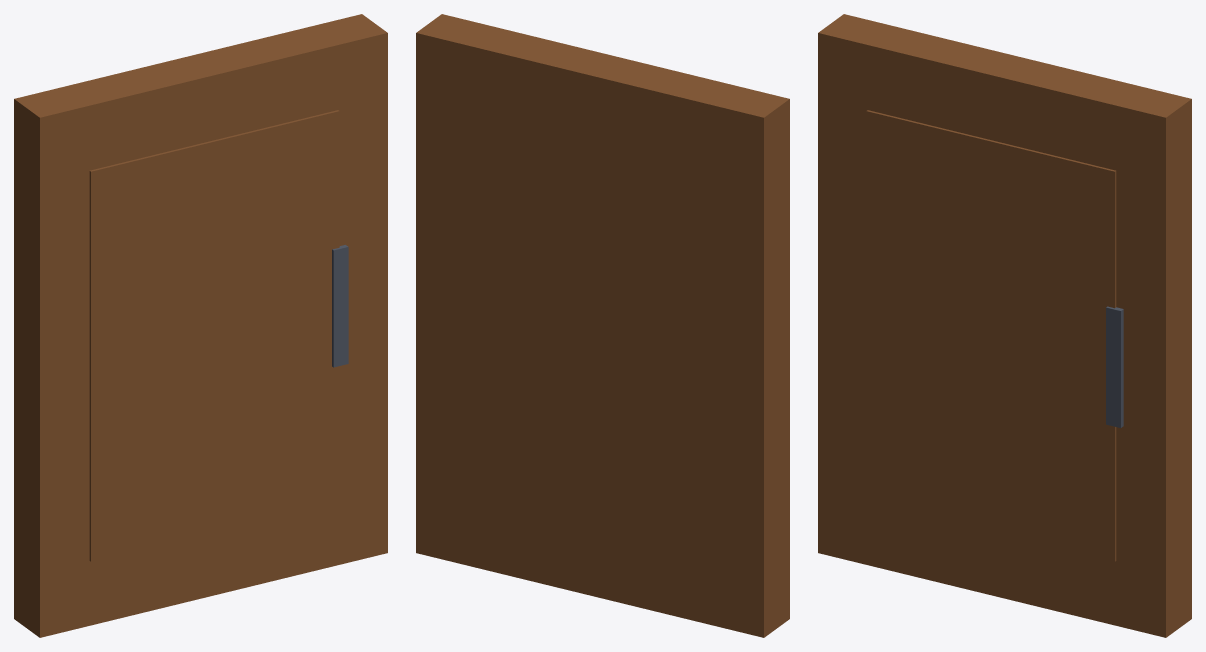
Rendered from hatch-outer.glb.
3 renders of one model, left to right at view 1: azimuth 30°, elevation 25°; view 2: azimuth 150°, elevation 25°; view 3: azimuth 330°, elevation 25°, orthographic.
Visible parts, largest first — view 1: hatch-outer; view 2: hatch-outer; view 3: hatch-outer.
Part boxes in pixels (bbox=[...]): hatch-outer: bbox=[14, 14, 387, 637]; hatch-outer: bbox=[416, 14, 789, 637]; hatch-outer: bbox=[818, 14, 1191, 637].
Size of the model in its own units: 1.4 by 2 by 0.2.
